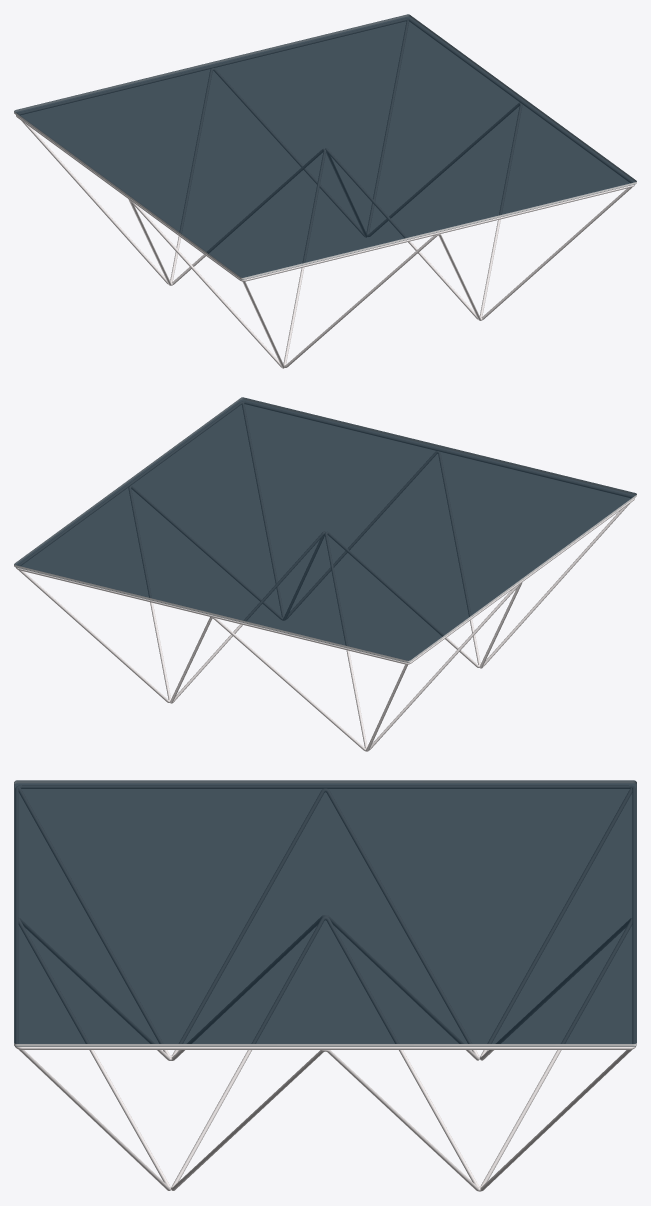
The model's file is table.glb.
The picture shows the model from 3 angles, top to bottom: view 1: azimuth 30°, elevation 25°; view 2: azimuth 150°, elevation 25°; view 3: azimuth 270°, elevation 25°; orthographic projection. The views are drawn at different scales.
Visible parts, largest first — view 1: stolik_pauk_Stolik_glass_0, stolik_pauk_Stoloik_metall_0, stolik_pauk_glass_tor_id3_0; view 2: stolik_pauk_Stolik_glass_0, stolik_pauk_Stoloik_metall_0, stolik_pauk_glass_tor_id3_0; view 3: stolik_pauk_Stolik_glass_0, stolik_pauk_Stoloik_metall_0, stolik_pauk_glass_tor_id3_0.
Boxes of the visible parts, box(x1,y1,x2,y2) form: stolik_pauk_Stolik_glass_0: box(14, 14, 636, 279); stolik_pauk_Stoloik_metall_0: box(16, 18, 634, 368); stolik_pauk_glass_tor_id3_0: box(14, 14, 636, 279); stolik_pauk_Stolik_glass_0: box(14, 397, 636, 662); stolik_pauk_Stoloik_metall_0: box(16, 401, 634, 751); stolik_pauk_glass_tor_id3_0: box(14, 397, 636, 662); stolik_pauk_Stolik_glass_0: box(14, 780, 636, 1046); stolik_pauk_Stoloik_metall_0: box(15, 785, 635, 1191); stolik_pauk_glass_tor_id3_0: box(14, 780, 636, 1046).
Bounding box in the file's own units: 1.39 × 0.5243 × 1.39.
